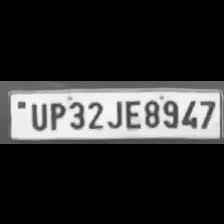2: (84, 97, 104, 129)
3: (65, 97, 85, 129)
4: (178, 96, 198, 128)
7: (196, 97, 216, 128)
8: (142, 96, 160, 128)
9: (160, 96, 178, 128)
E: (122, 96, 142, 130)
J: (105, 96, 123, 128)
P: (46, 98, 66, 130)
U: (27, 99, 47, 129)
